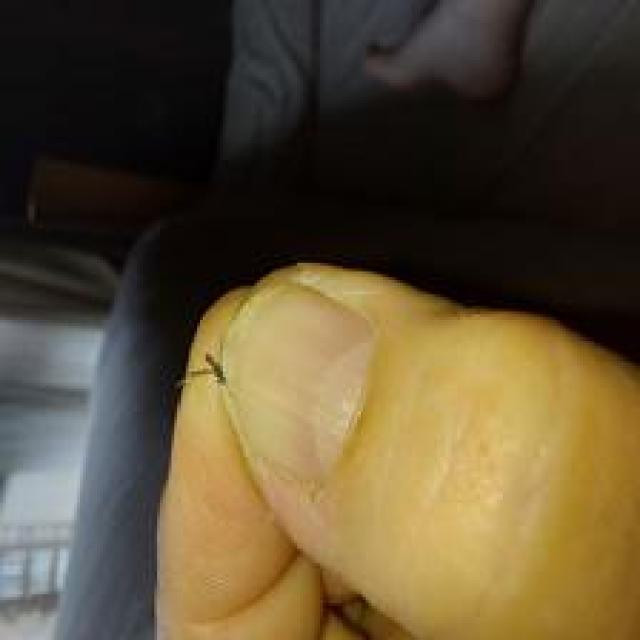Aedes albopictus: (168, 260, 640, 640)
